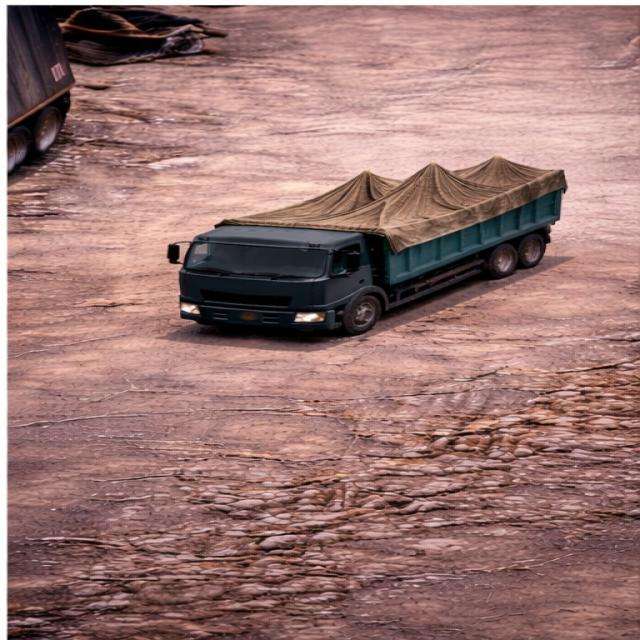trailer: (222, 160, 578, 227)
truck: (160, 136, 605, 338)
